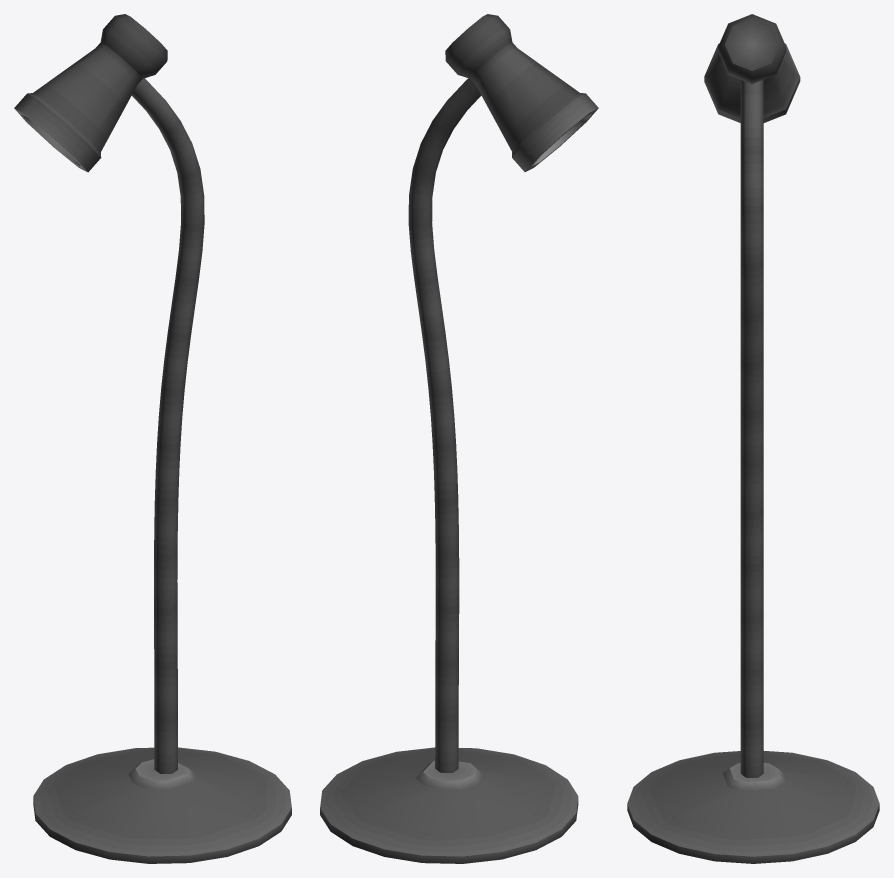
Rendered from lamp_long.fbx.
3 renders of one model, left to right at view 1: azimuth 30°, elevation 25°; view 2: azimuth 150°, elevation 25°; view 3: azimuth 270°, elevation 25°, orthographic. The views are drawn at different scales.
Visible parts, largest first — view 1: Cylinder.003; view 2: Cylinder.003; view 3: Cylinder.003.
Part boxes in pixels (x1=…): Cylinder.003: x1=14, y1=14, x2=291, y2=863; Cylinder.003: x1=320, y1=14, x2=598, y2=863; Cylinder.003: x1=627, y1=14, x2=879, y2=863.
Size of the model in its own units: 80.38 by 244 by 71.73.
